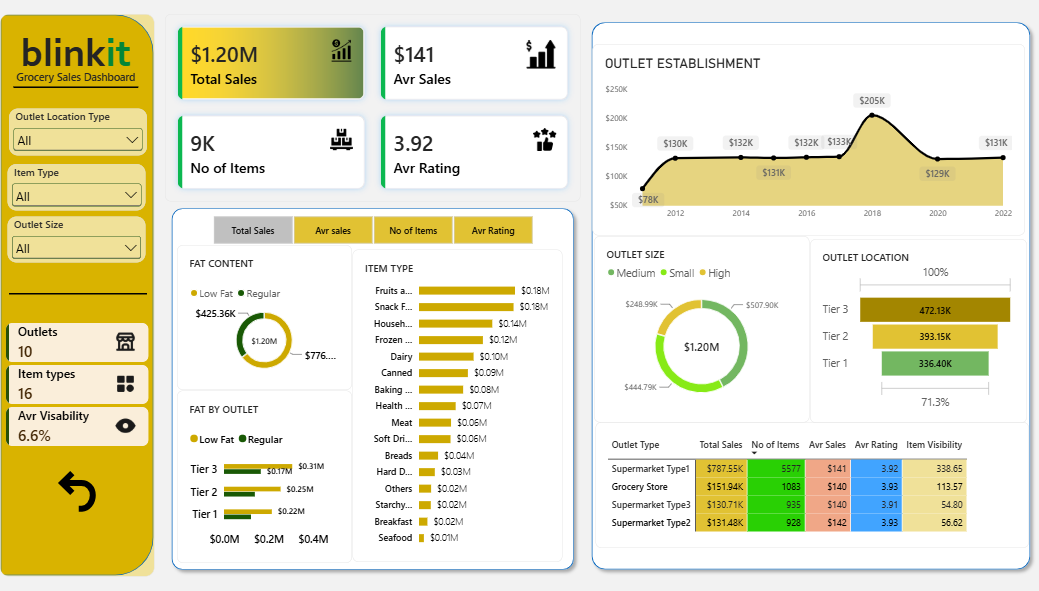

This screenshot's page, from the dashboard's own definition file:
{"tool":"powerbi","page":{"name":"Overview","canvas":[1400,800],"ordinal":0},"visuals":[{"type":"shape","box":[0,24,206,750],"z":0},{"type":"shape","box":[220,274,554,500],"z":1000},{"type":"cardVisual","fields":{"Data":["Measure.Total Sales","Measure.Avr Sales","Measure.No of Items","Measure.Avr Rating"]},"box":[220,24,554,250],"z":2000},{"type":"donutChart","title":"FAT CONTENT","fields":{"Category":["BlinkIT Grocery Data.Item Fat Content"],"Y":["Measure.Total Sales"]},"box":[236.7,331.7,233.3,193.3],"z":3000},{"type":"slicer","fields":{"Values":["Metric.Metric"]},"box":[264,292,465,40],"z":4000},{"type":"clusteredBarChart","title":"FAT BY OUTLET","fields":{"Category":["BlinkIT Grocery Data.Outlet Location Type"],"Series":["BlinkIT Grocery Data.Item Fat Content"],"Y":["Measure.Total Sales"]},"box":[236.7,526.7,233.3,230],"z":5000},{"type":"clusteredBarChart","title":"ITEM TYPE","fields":{"Category":["BlinkIT Grocery Data.Item Type"],"Y":["Measure.Total Sales"]},"box":[470,338.3,280,416.7],"z":6000},{"type":"shape","box":[780.4,26.9,602.5,747.5],"z":7000},{"type":"lineChart","title":"OUTLET ESTABLISHMENT","fields":{"Category":["BlinkIT Grocery Data.Outlet Establishment Year"],"Y":["Measure.Total Sales"]},"box":[790.6,64.6,576.8,255],"z":8000,"group":"g1"},{"type":"shape","box":[18.2,108.2,166.4,27.3],"z":8000},{"type":"slicer","fields":{"Values":["BlinkIT Grocery Data.Outlet Location Type"]},"box":[11.2,150.8,183.8,62.5],"z":9000},{"type":"donutChart","title":"OUTLET SIZE","fields":{"Category":["BlinkIT Grocery Data.Outlet Size"],"Y":["Measure.Total Sales"]},"box":[792.7,320.3,287.5,248.3],"z":9000,"group":"g1"},{"type":"slicer","fields":{"Values":["BlinkIT Grocery Data.Item Type"]},"box":[10,223.3,184,62],"z":10000},{"type":"funnel","title":"OUTLET LOCATION","fields":{"Category":["BlinkIT Grocery Data.Outlet Location Type"],"Y":["Sum(BlinkIT Grocery Data.Sales)"]},"box":[1080.2,323.6,289.3,245],"z":10000,"group":"g1"},{"type":"textbox","box":[18.2,98.2,166.4,23.6],"z":11000},{"type":"pivotTable","fields":{"Rows":["BlinkIT Grocery Data.Outlet Type"],"Values":["Measure.Total Sales","Measure.No of Items","Measure.Avr Sales","Measure.Avr Rating","Sum(BlinkIT Grocery Data.Item Visibility)"]},"box":[794.8,568.6,577.8,168],"z":11000,"group":"g1"},{"type":"textbox","box":[18,42,166,80],"z":12000},{"type":"slicer","fields":{"Values":["BlinkIT Grocery Data.Outlet Size"]},"box":[10,293.3,183.8,61.2],"z":13000},{"type":"actionButton","box":[62,626,82,68],"z":14000},{"type":"group","id":"g1","title":"Group 1","box":[790.6,64.6,582,672],"z":15000},{"type":"cardVisual","fields":{"Data":["Measure.Outlet count","Measure.Item types","Measure.Avr Visability"]},"box":[0,412,206.7,213.3],"z":16000},{"type":"shape","box":[11,382,184,30],"z":17000}]}

Visuals, with their boxes in screenshot pixels (x1, y1, x2, y2), scaled from the page's 1400x800 canvas onto the 1039x591 screenshot:
shape: (0,18,153,572)
shape: (163,202,574,572)
cardVisual - Measure.Total Sales x Measure.Avr Sales: (163,18,574,202)
"FAT CONTENT" donutChart: (176,245,349,388)
slicer - Metric.Metric: (196,216,541,245)
"FAT BY OUTLET" clusteredBarChart: (176,389,349,559)
"ITEM TYPE" clusteredBarChart: (349,250,557,558)
shape: (579,20,1026,572)
"OUTLET ESTABLISHMENT" lineChart: (587,48,1015,236)
shape: (14,80,137,100)
slicer - BlinkIT Grocery Data.Outlet Location Type: (8,111,145,158)
"OUTLET SIZE" donutChart: (588,237,802,420)
slicer - BlinkIT Grocery Data.Item Type: (7,165,144,211)
"OUTLET LOCATION" funnel: (802,239,1016,420)
textbox: (14,73,137,90)
pivotTable - BlinkIT Grocery Data.Outlet Type x Measure.Total Sales: (590,420,1019,544)
textbox: (13,31,137,90)
slicer - BlinkIT Grocery Data.Outlet Size: (7,217,144,262)
actionButton: (46,462,107,513)
"Group 1" group: (587,48,1019,544)
cardVisual - Measure.Outlet count x Measure.Item types: (0,304,153,462)
shape: (8,282,145,304)
